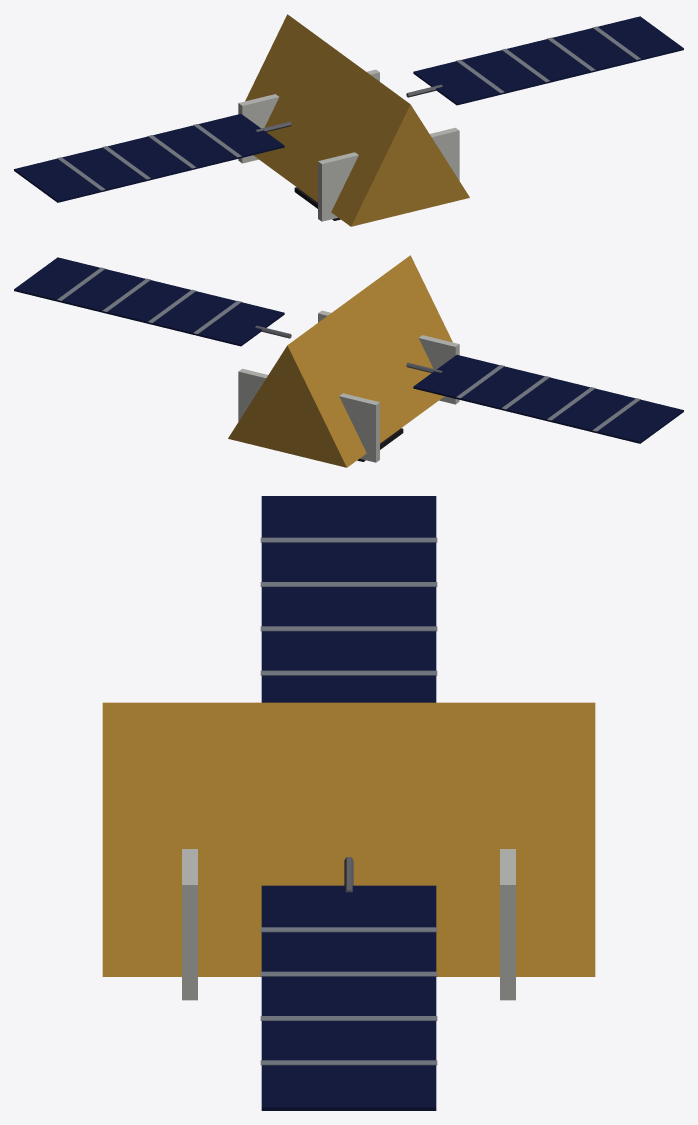
The model's file is iridium.glb.
3 renders of one model, top to bottom at view 1: azimuth 30°, elevation 25°; view 2: azimuth 150°, elevation 25°; view 3: azimuth 270°, elevation 25°, orthographic. The views are drawn at different scales.
Visible parts, largest first — view 1: iridium; view 2: iridium; view 3: iridium.
Part boxes in pixels (x1,y1,x2,y2): iridium: (14,14,683,226); iridium: (14,255,683,467); iridium: (102,496,595,1110).
Size of the model in its own units: 9.1 by 1.93 by 3.1.
